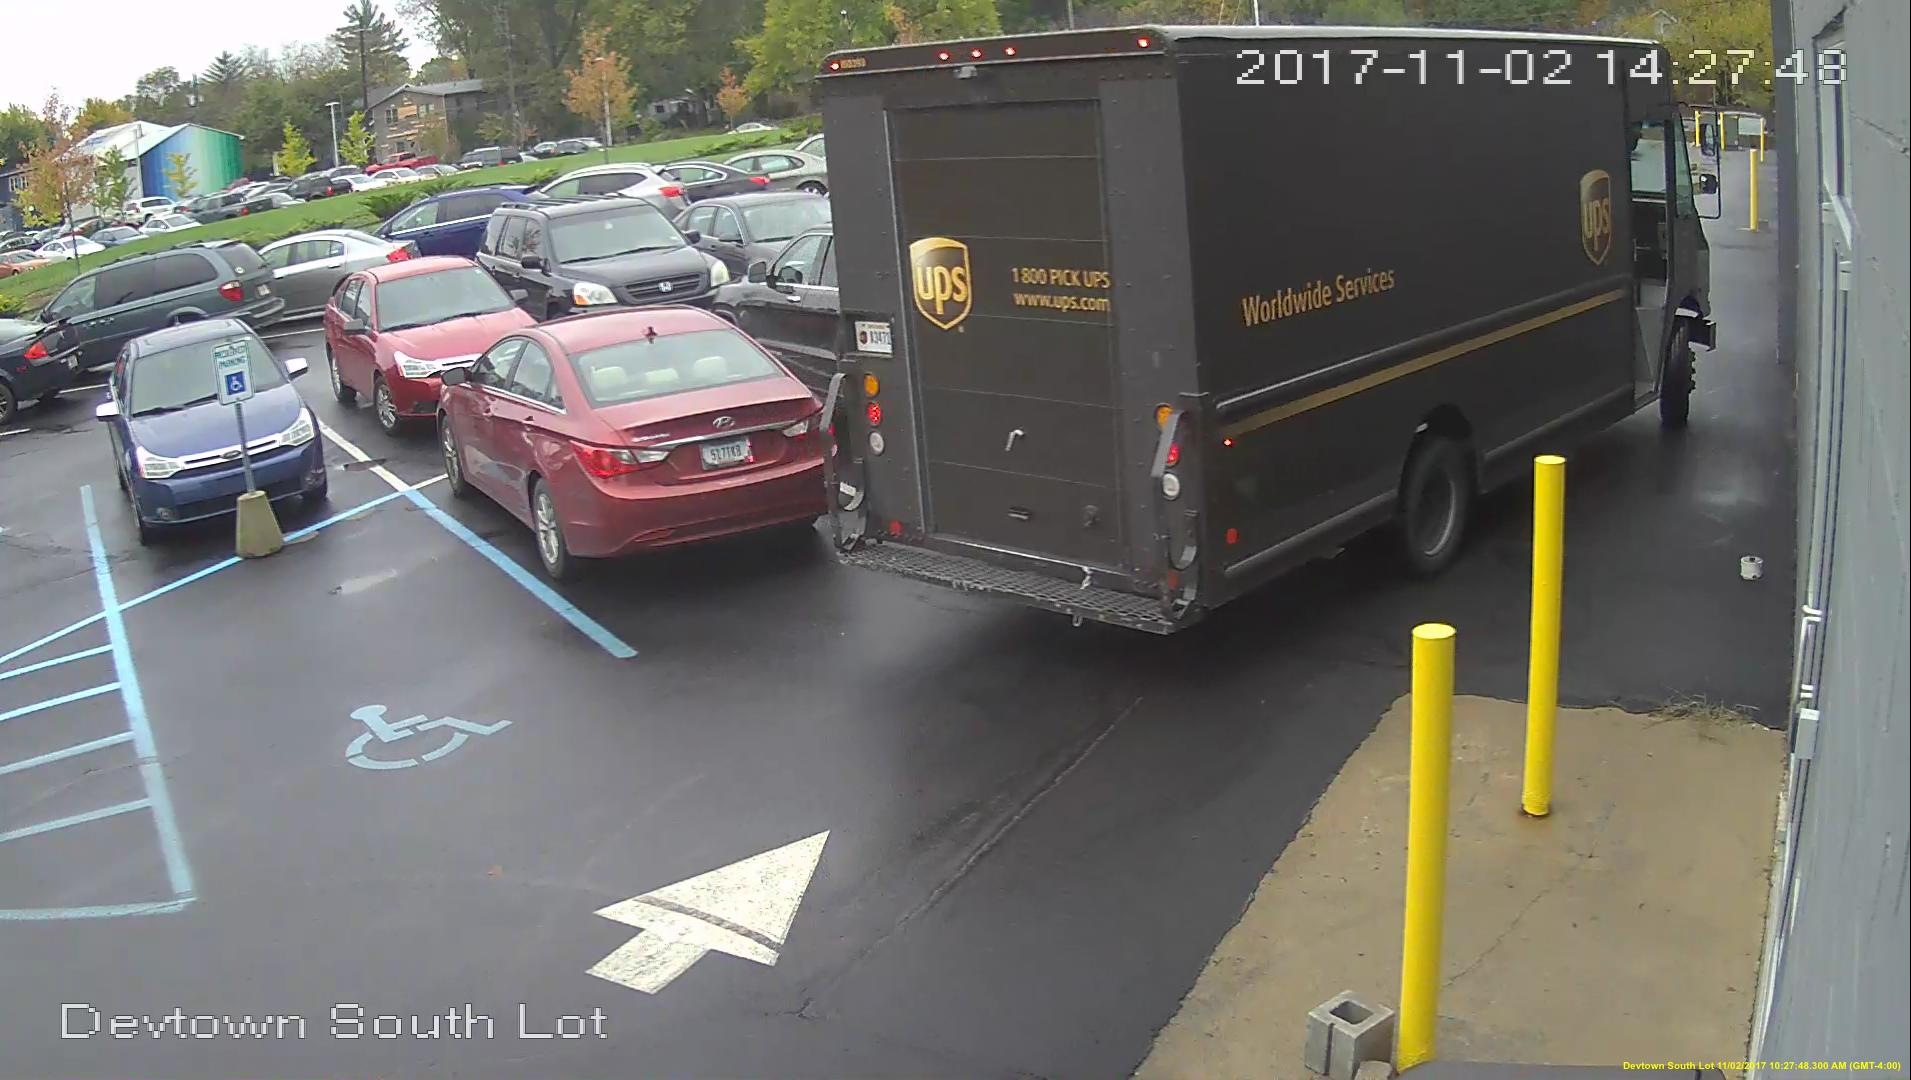ups_truck: (831, 31, 1704, 625)
